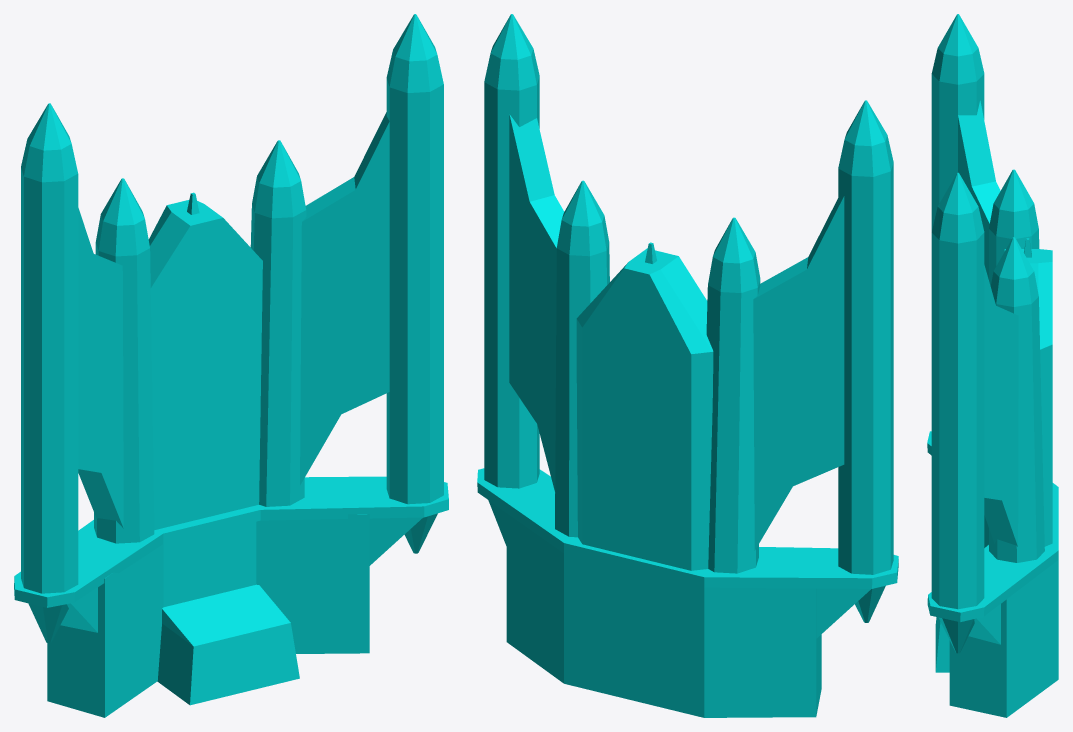
Rendered from SM_Prop_Organ_01_Collision.fbx.
The picture shows the model from 3 angles, left to right: view 1: azimuth 30°, elevation 25°; view 2: azimuth 150°, elevation 25°; view 3: azimuth 270°, elevation 25°; orthographic projection. The views are drawn at different scales.
Parts seen in each view (by area): view 1: SM_Prop_Organ_01_Collision; view 2: SM_Prop_Organ_01_Collision; view 3: SM_Prop_Organ_01_Collision.
Part boxes in pixels (bbox=[...]): SM_Prop_Organ_01_Collision: bbox=[14, 14, 448, 717]; SM_Prop_Organ_01_Collision: bbox=[477, 14, 898, 717]; SM_Prop_Organ_01_Collision: bbox=[927, 14, 1058, 717].
Size of the model in its own units: 733 by 1009 by 217.
